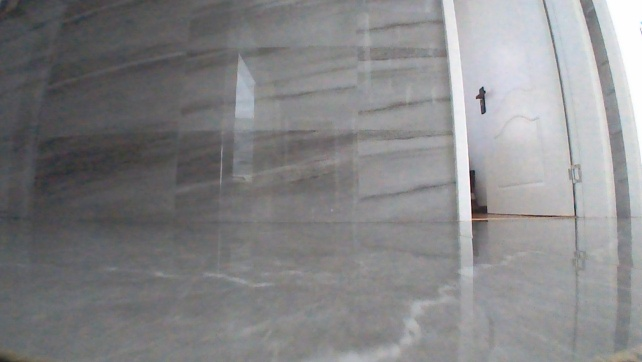door_anno: (467, 0, 617, 220)
